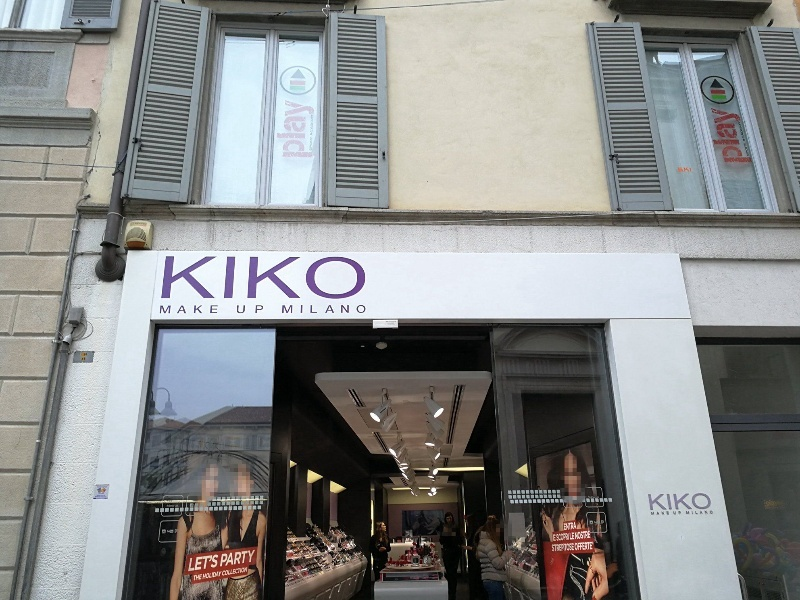text: (289, 98, 304, 159), (737, 107, 753, 163), (721, 107, 736, 163), (177, 256, 192, 301), (193, 256, 208, 301), (209, 256, 224, 301), (225, 256, 240, 301), (241, 256, 256, 301), (257, 256, 272, 301), (273, 256, 288, 301), (289, 256, 304, 301), (305, 256, 320, 301), (321, 256, 336, 301), (337, 256, 352, 301), (278, 98, 288, 159), (353, 256, 366, 301), (710, 107, 720, 163), (305, 98, 314, 159), (166, 256, 176, 301), (738, 121, 752, 143), (193, 555, 208, 573), (225, 550, 240, 568), (241, 550, 256, 568), (657, 493, 672, 511), (673, 493, 688, 511), (689, 493, 704, 511), (311, 115, 320, 137), (209, 555, 219, 573), (309, 137, 320, 152), (705, 493, 714, 511), (161, 305, 176, 315), (177, 305, 192, 315), (193, 305, 208, 315), (225, 567, 240, 577), (577, 542, 593, 551), (648, 493, 656, 511), (577, 530, 591, 540), (241, 305, 256, 314), (289, 305, 304, 314), (305, 305, 320, 314), (321, 305, 336, 314), (337, 305, 352, 314), (561, 543, 575, 552), (744, 143, 752, 158), (353, 305, 366, 314), (209, 571, 222, 580), (194, 574, 208, 582), (564, 522, 576, 531), (209, 305, 218, 315), (561, 533, 570, 542), (769, 500, 779, 508), (689, 510, 704, 515), (552, 543, 560, 552), (241, 567, 248, 577), (673, 511, 688, 515), (553, 534, 560, 542), (257, 305, 263, 314), (282, 305, 288, 314), (657, 511, 670, 515), (678, 168, 688, 173), (570, 532, 576, 540), (203, 571, 208, 580), (705, 510, 713, 515), (190, 555, 192, 573), (222, 550, 224, 568), (237, 305, 240, 314), (557, 533, 560, 542), (651, 511, 656, 515), (766, 500, 768, 508), (689, 168, 692, 173), (223, 567, 224, 577), (575, 530, 576, 540), (686, 510, 688, 515), (577, 522, 578, 531), (575, 542, 576, 551)
